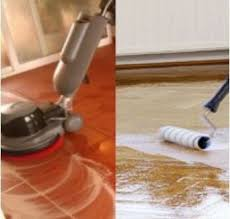Wet-floor: (6, 143, 116, 218), (121, 144, 226, 211)
